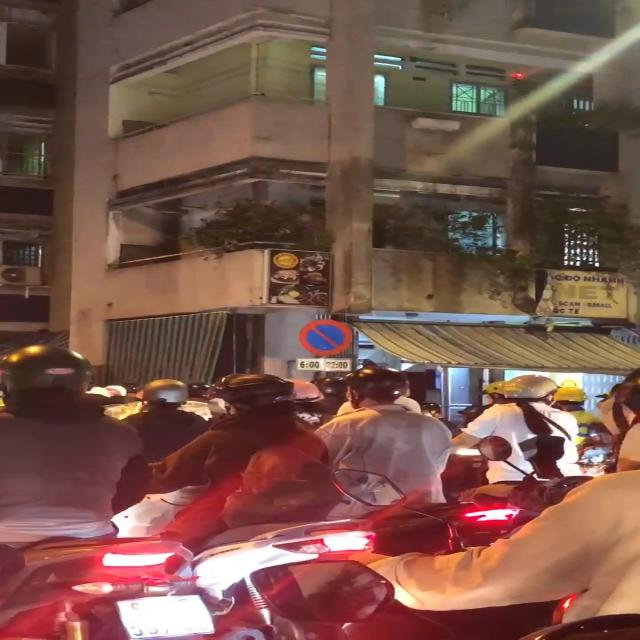Bien bao cam do xe: (296, 314, 358, 357)
